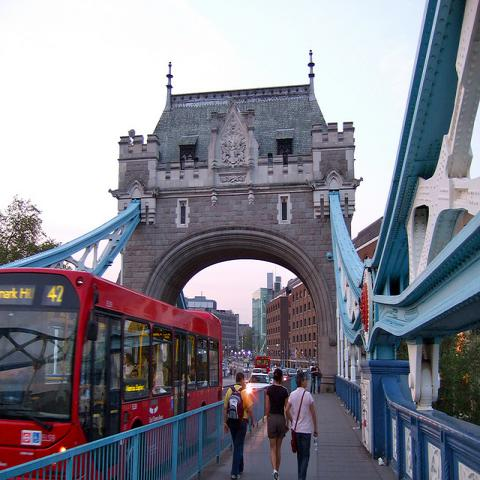bus: (0, 264, 224, 463), (255, 354, 272, 374)
car: (246, 373, 273, 393), (282, 368, 290, 380), (251, 368, 263, 374), (288, 368, 297, 376), (242, 366, 249, 373)
